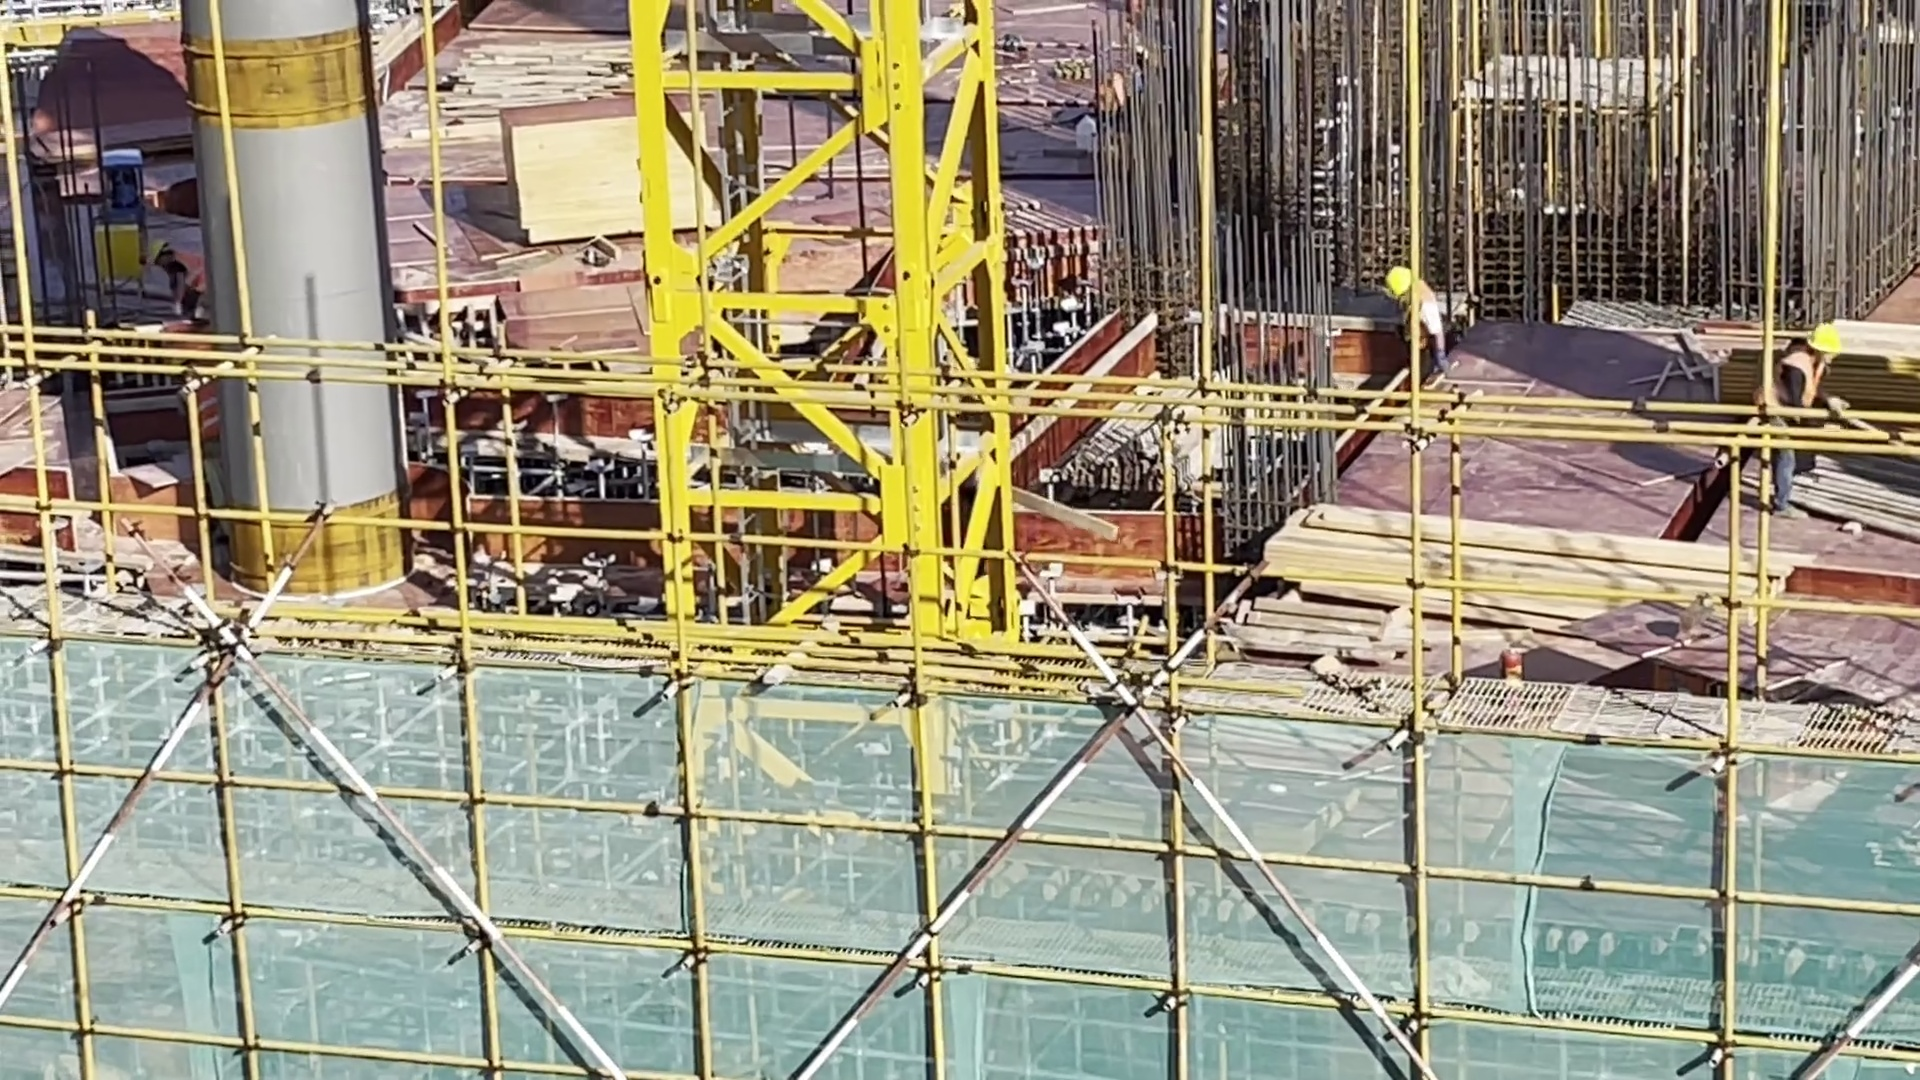board: (1240, 485, 1736, 730)
helmet: (1805, 328, 1847, 371), (1381, 255, 1409, 290), (141, 236, 175, 262)
person: (1764, 321, 1842, 524), (1382, 263, 1461, 392)
vest: (1768, 347, 1819, 432), (1398, 285, 1446, 354)
